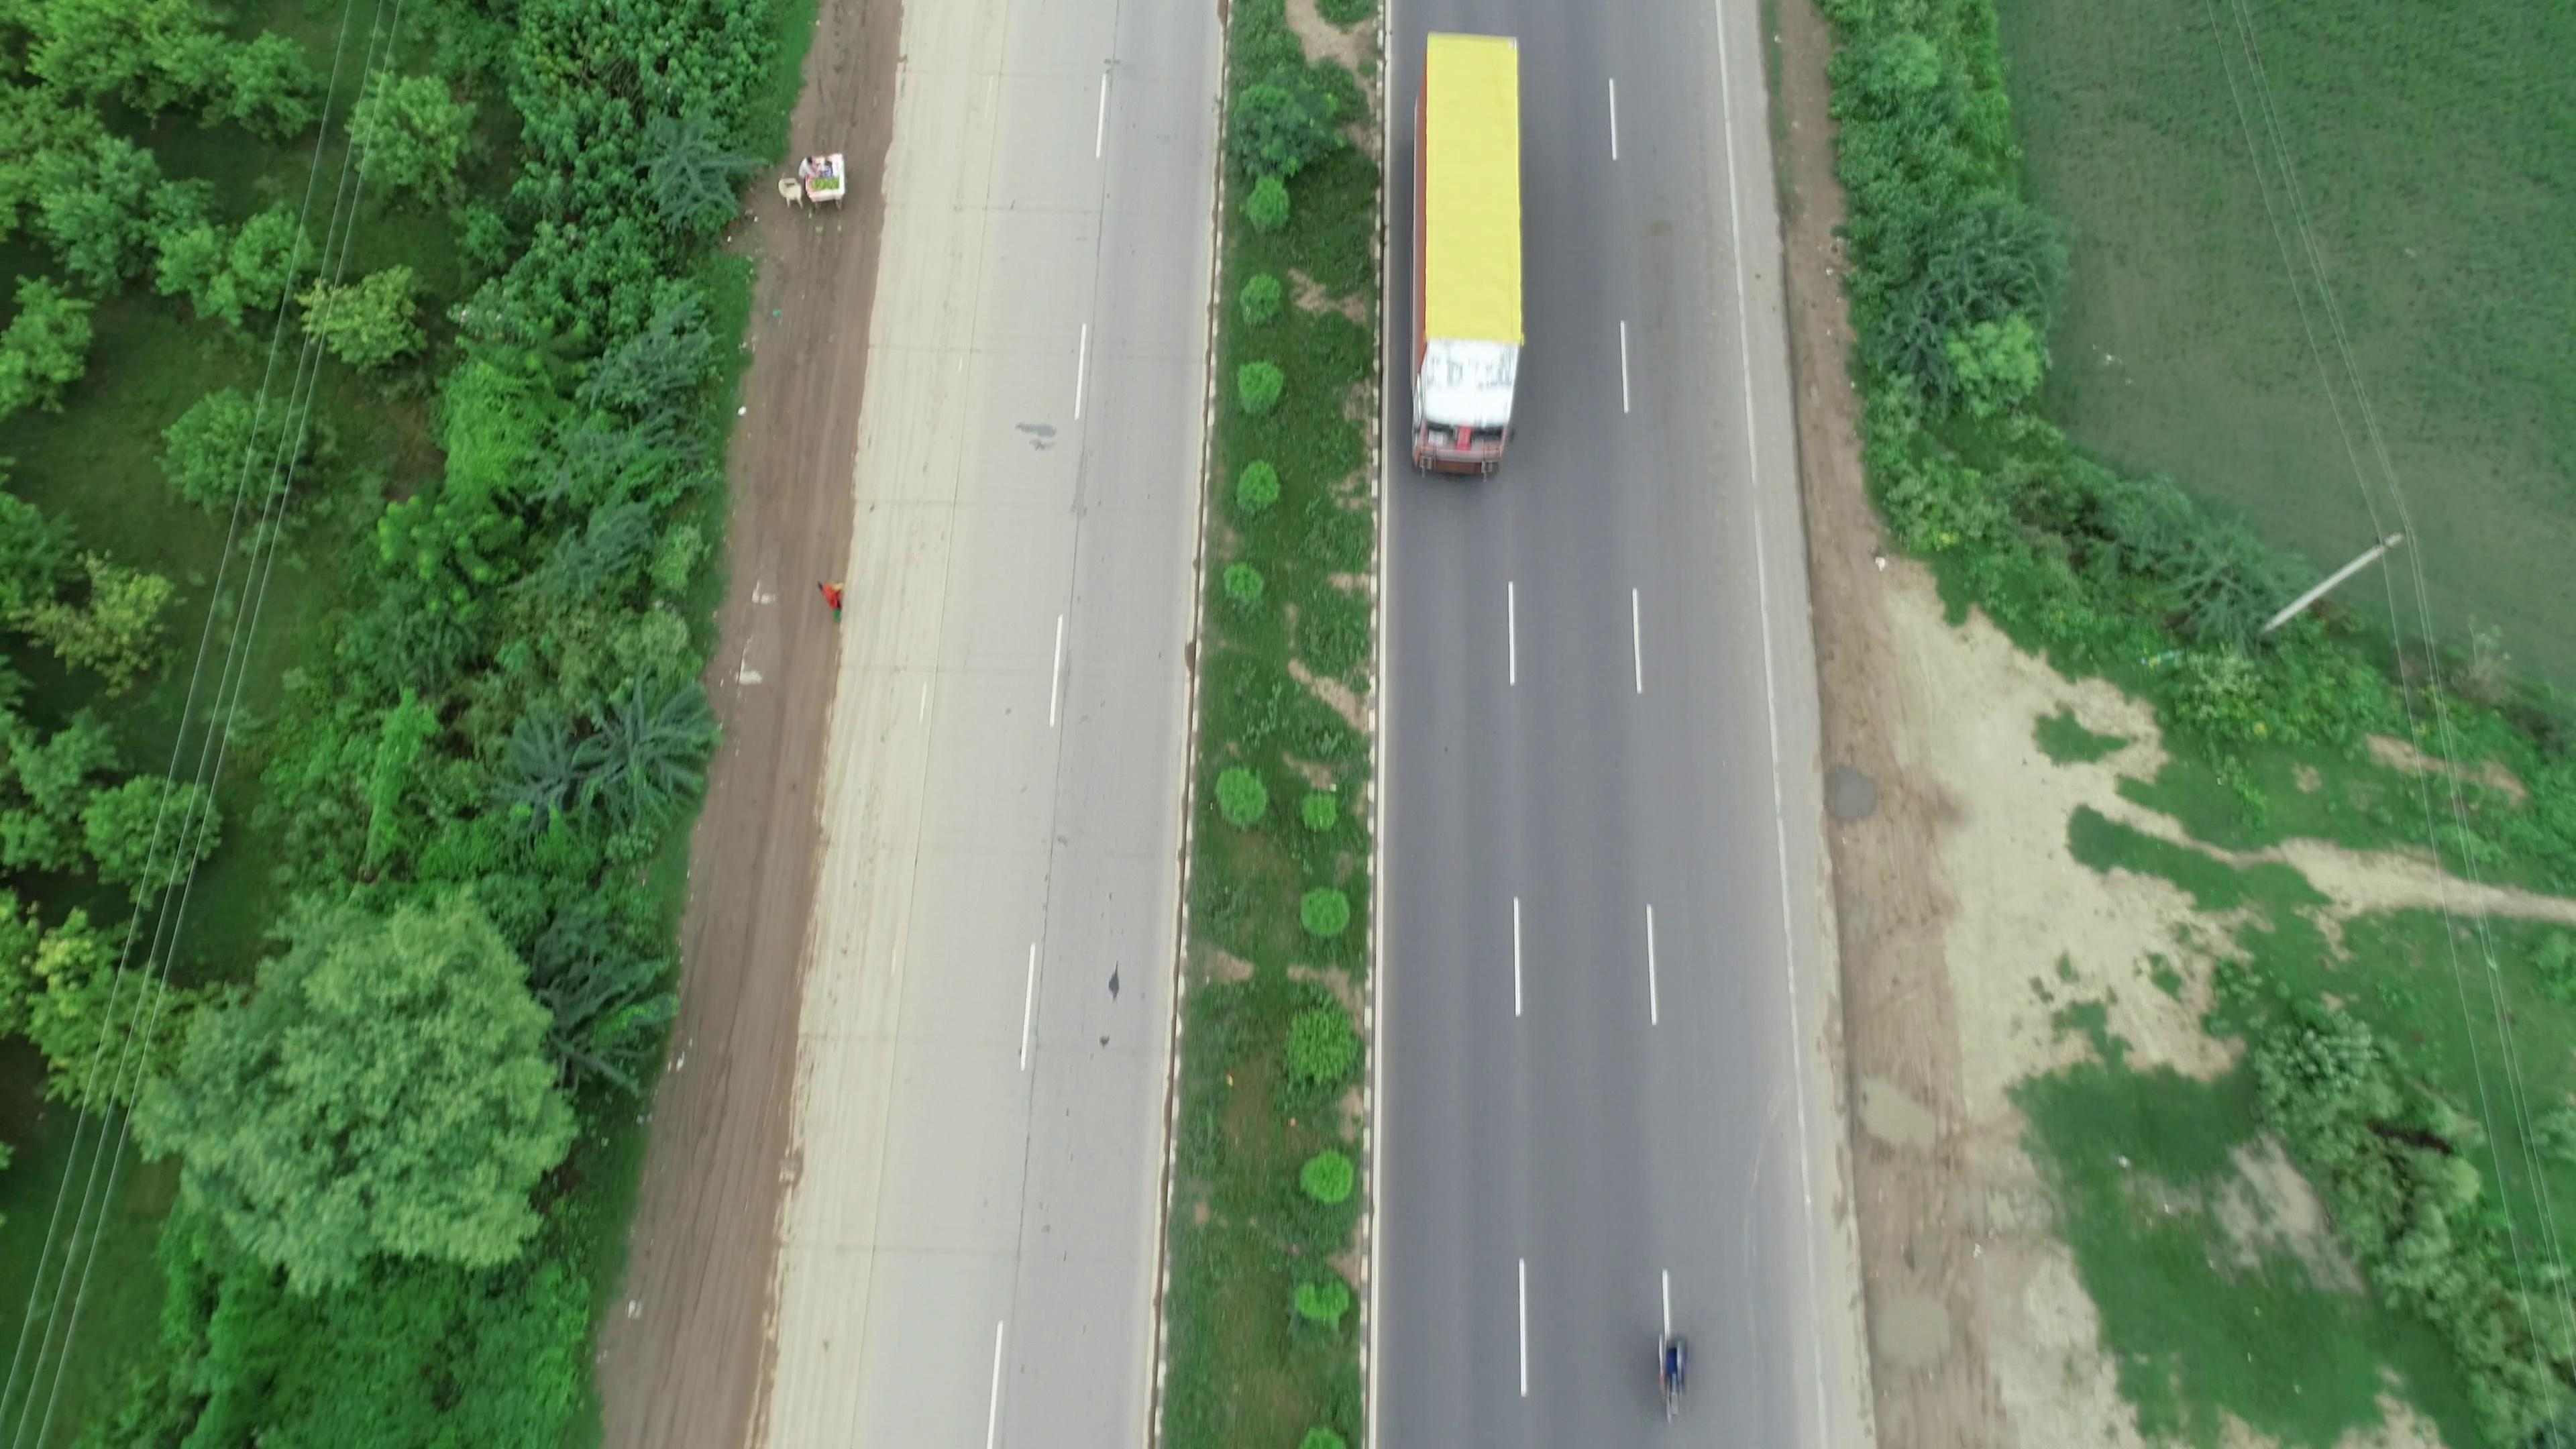Muddy_road: (678, 393, 911, 922), (626, 938, 872, 1430)
